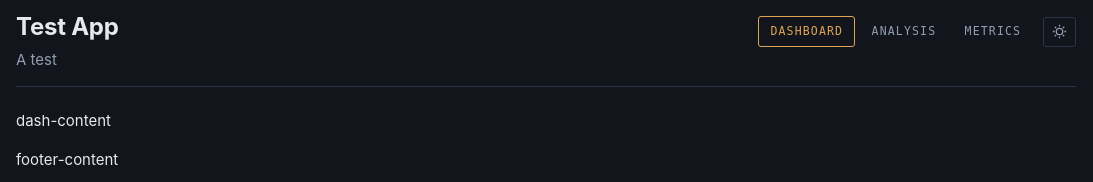
AppShell navigation › switches pages on nav click and updates the hash
Click the link "Analysis" at (904, 31), box [872, 24, 936, 38]
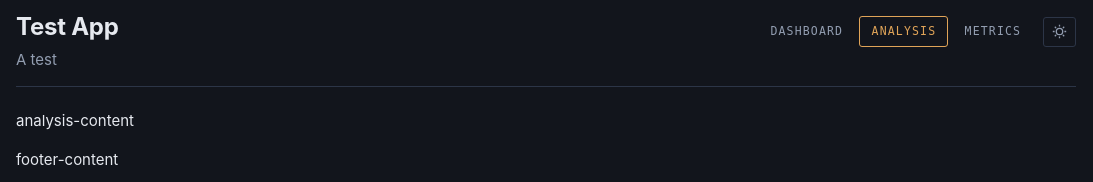
expect the text "analysis-content" is shown: met, box [16, 111, 134, 130]
expect the text "dash-content" is gone: met
